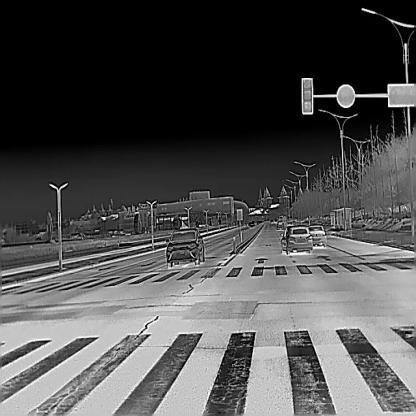car: (165, 228, 204, 267), (280, 226, 312, 254), (308, 224, 326, 247), (276, 219, 284, 229), (248, 223, 255, 230)
